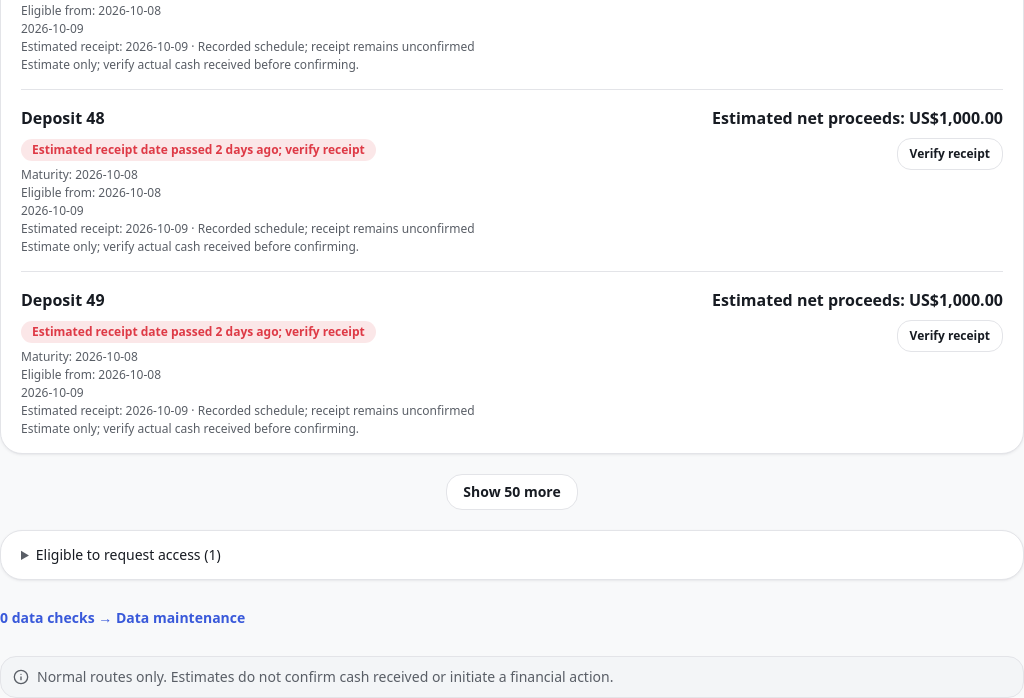
Scenario: upcoming UI › pages in fifty-item increments and keeps eligible items collapsed
(page scrolled)
Click the button "Show 50 more": (512, 492) x1=446 y1=474 x2=578 y2=510
(page scrolled)
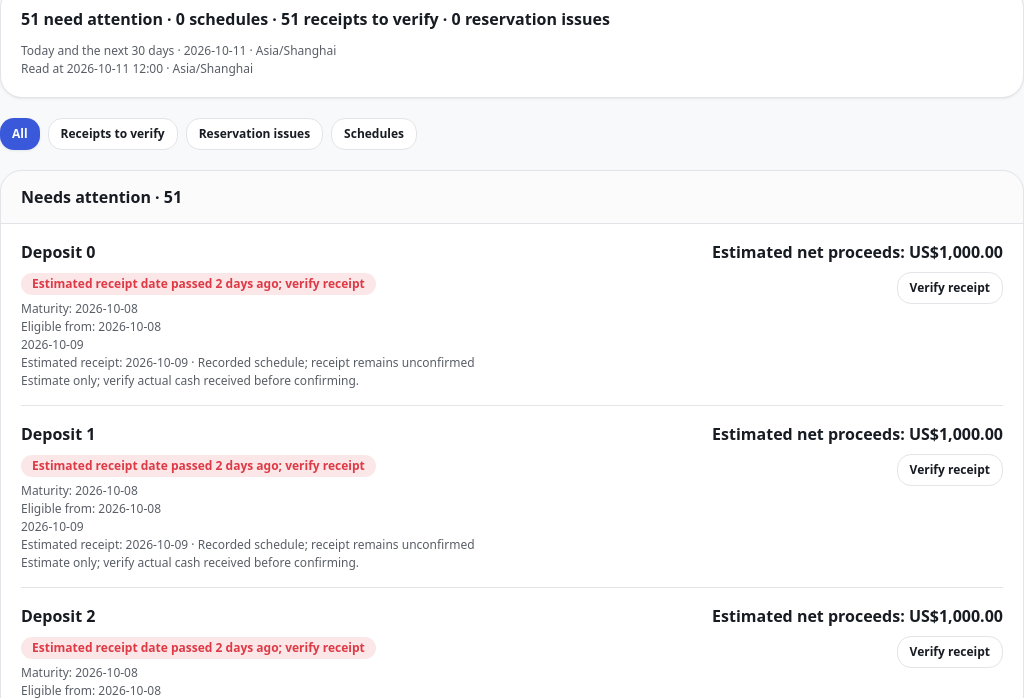
Click the button "Reservation issues": (254, 134) x1=186 y1=118 x2=323 y2=150
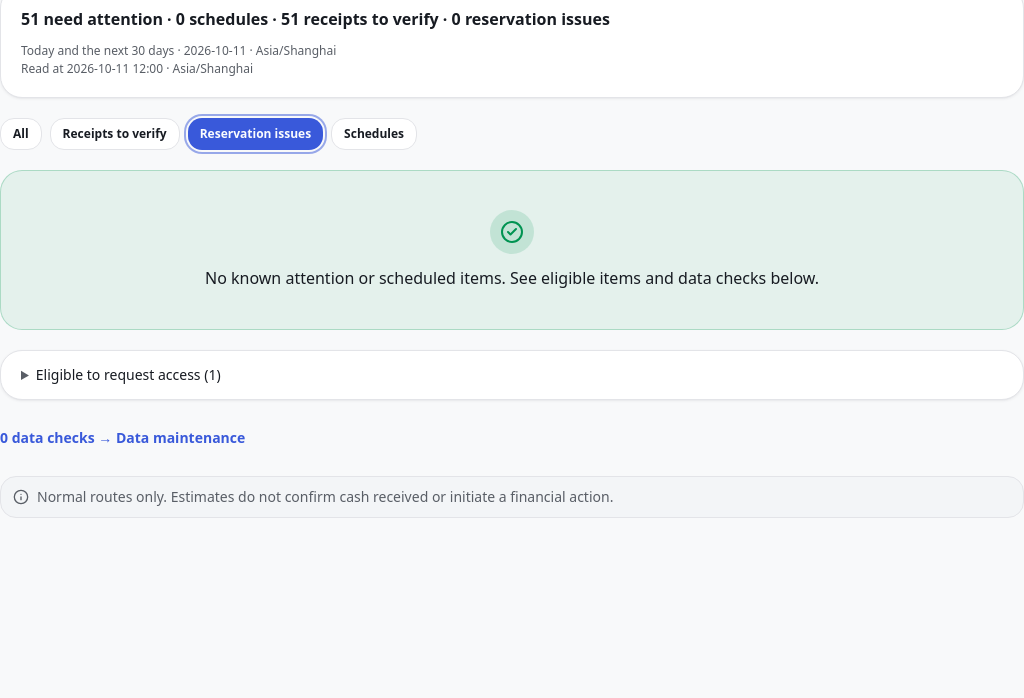
Expected: the text "Deposit 0" is gone
